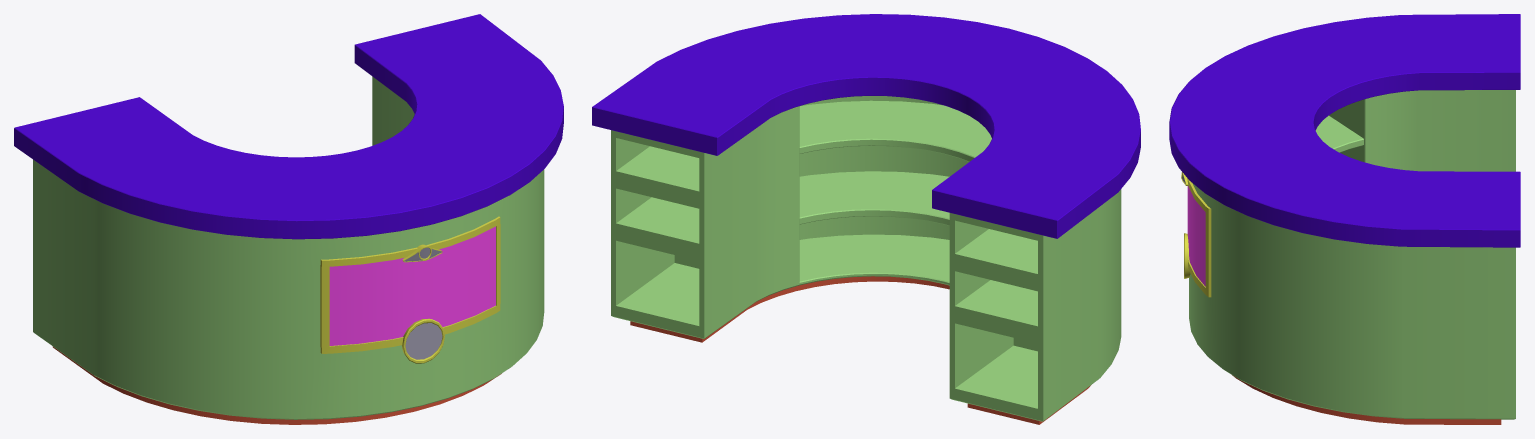
The model's file is Desk1.fbx.
3 views of the same model, side by side, from view 1: azimuth 30°, elevation 25°; view 2: azimuth 150°, elevation 25°; view 3: azimuth 270°, elevation 25° (orthographic). The views are drawn at different scales.
Parts seen in each view (by area): view 1: Desk; view 2: Desk; view 3: Desk.
Boxes of the visible parts, x1=… form: Desk: x1=14, y1=14, x2=563, y2=424; Desk: x1=592, y1=14, x2=1140, y2=424; Desk: x1=1169, y1=14, x2=1520, y2=424.
Size of the model in its own units: 225 by 101 by 154.
